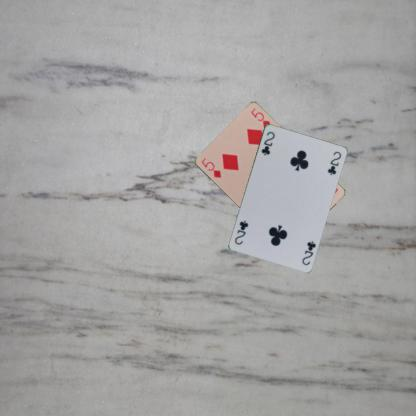2c: (299, 238, 317, 266), (258, 129, 276, 156)
5d: (199, 155, 222, 180)
